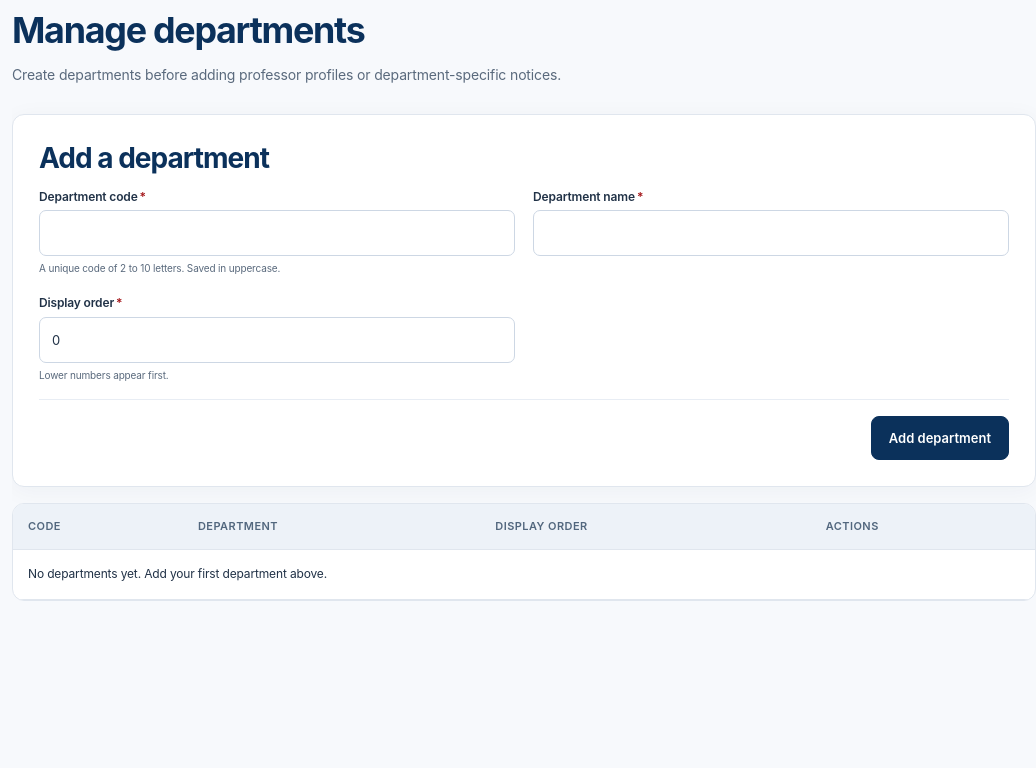
Scenario: department management › keeps entered values and shows a duplicate-code error from the server
The image size is (1036, 768).
Type "ENG" into the field labelled "Department code*" at [277, 234], box [39,210,515,256]
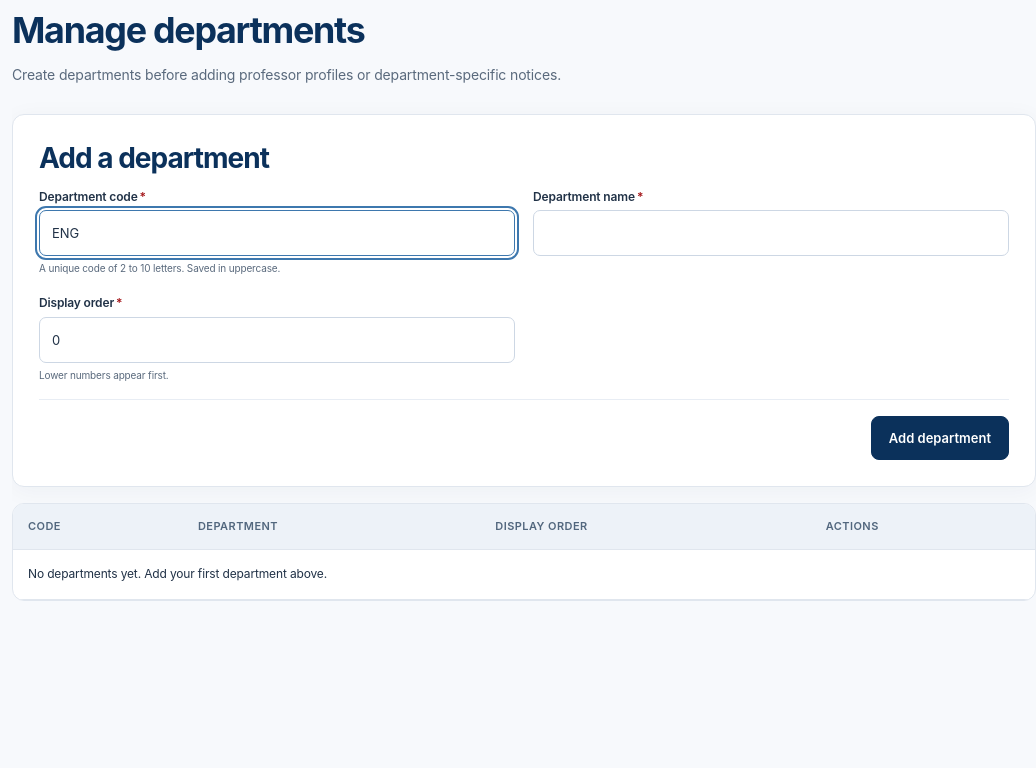
Type "Engineering" into the field labelled "Department name*" at [771, 234], box [533,210,1009,256]
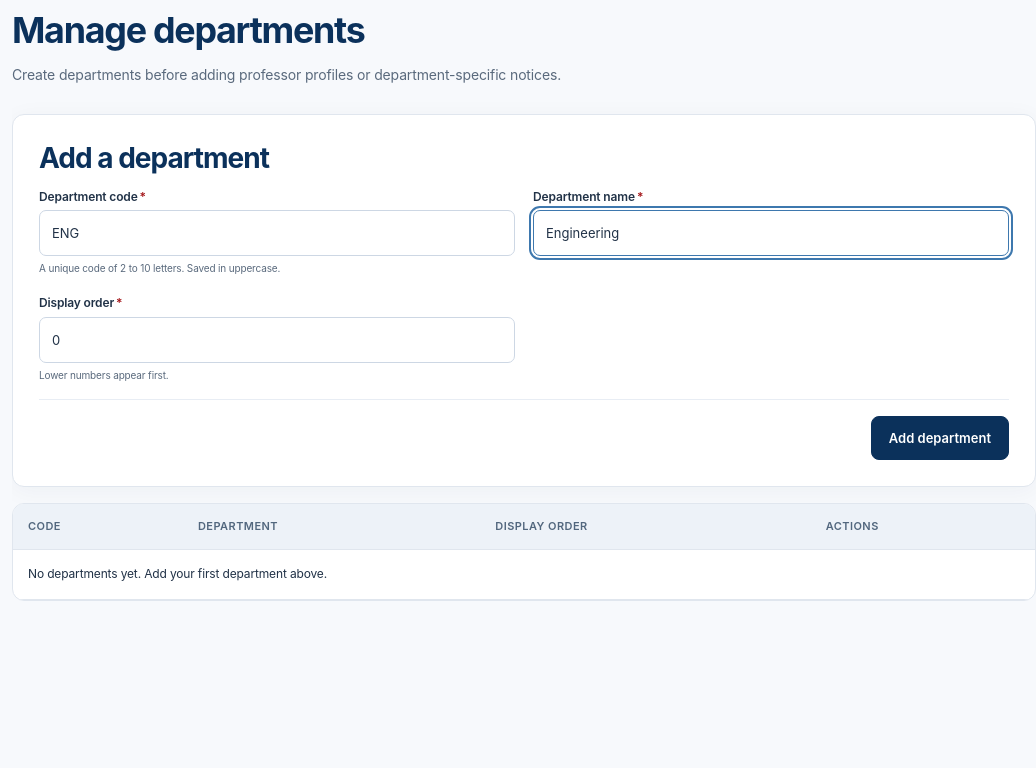
Click the button "Add department" at [940, 438], box [871,416,1009,460]
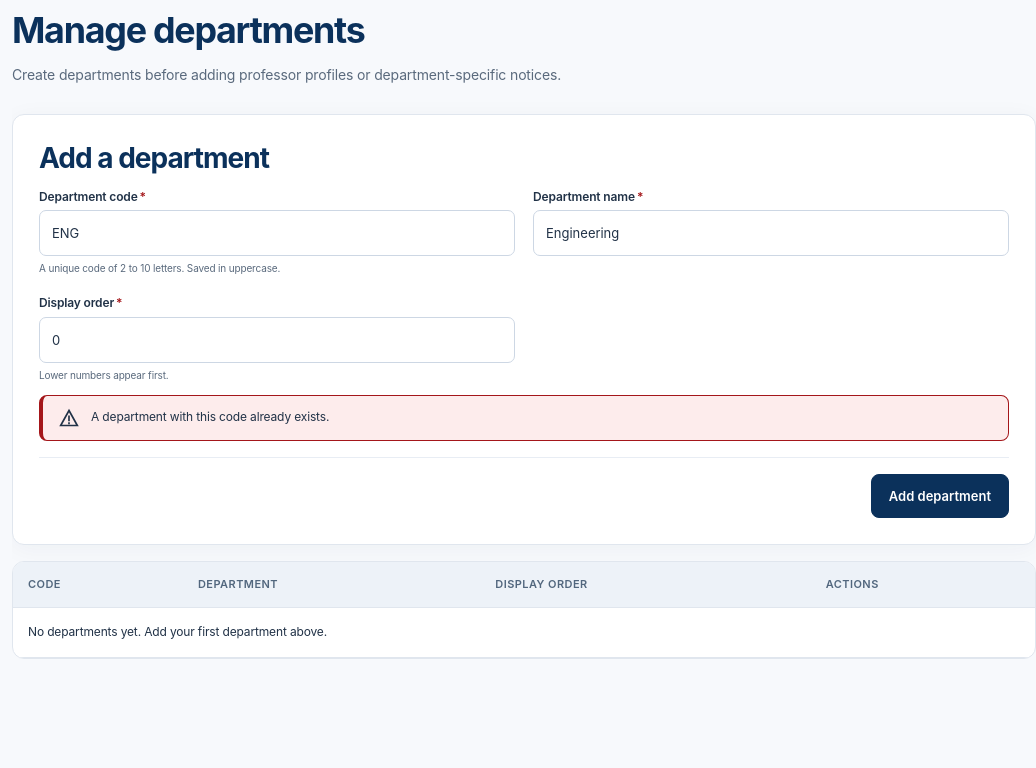
Expected: the text "A department with this code already exists." is shown, [91,409,329,424]
